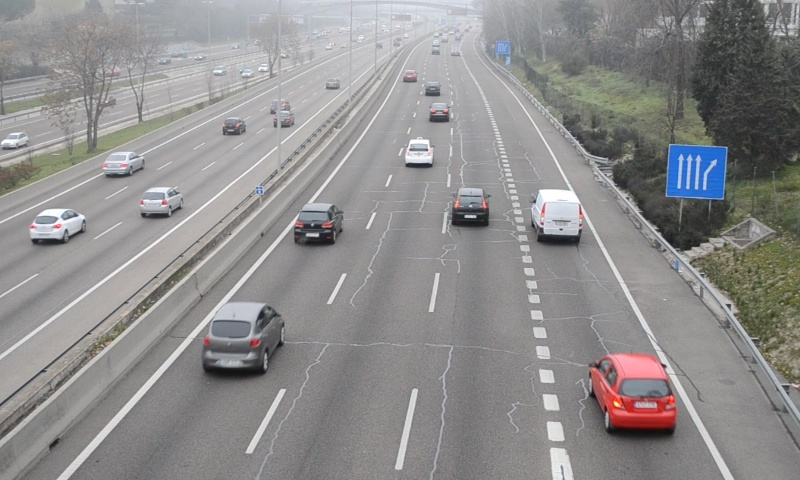car: (589, 354, 676, 430), (202, 302, 284, 374), (294, 202, 344, 243), (452, 187, 487, 228), (404, 138, 434, 165), (428, 102, 450, 122), (424, 80, 440, 96)
van: (533, 190, 584, 240)
